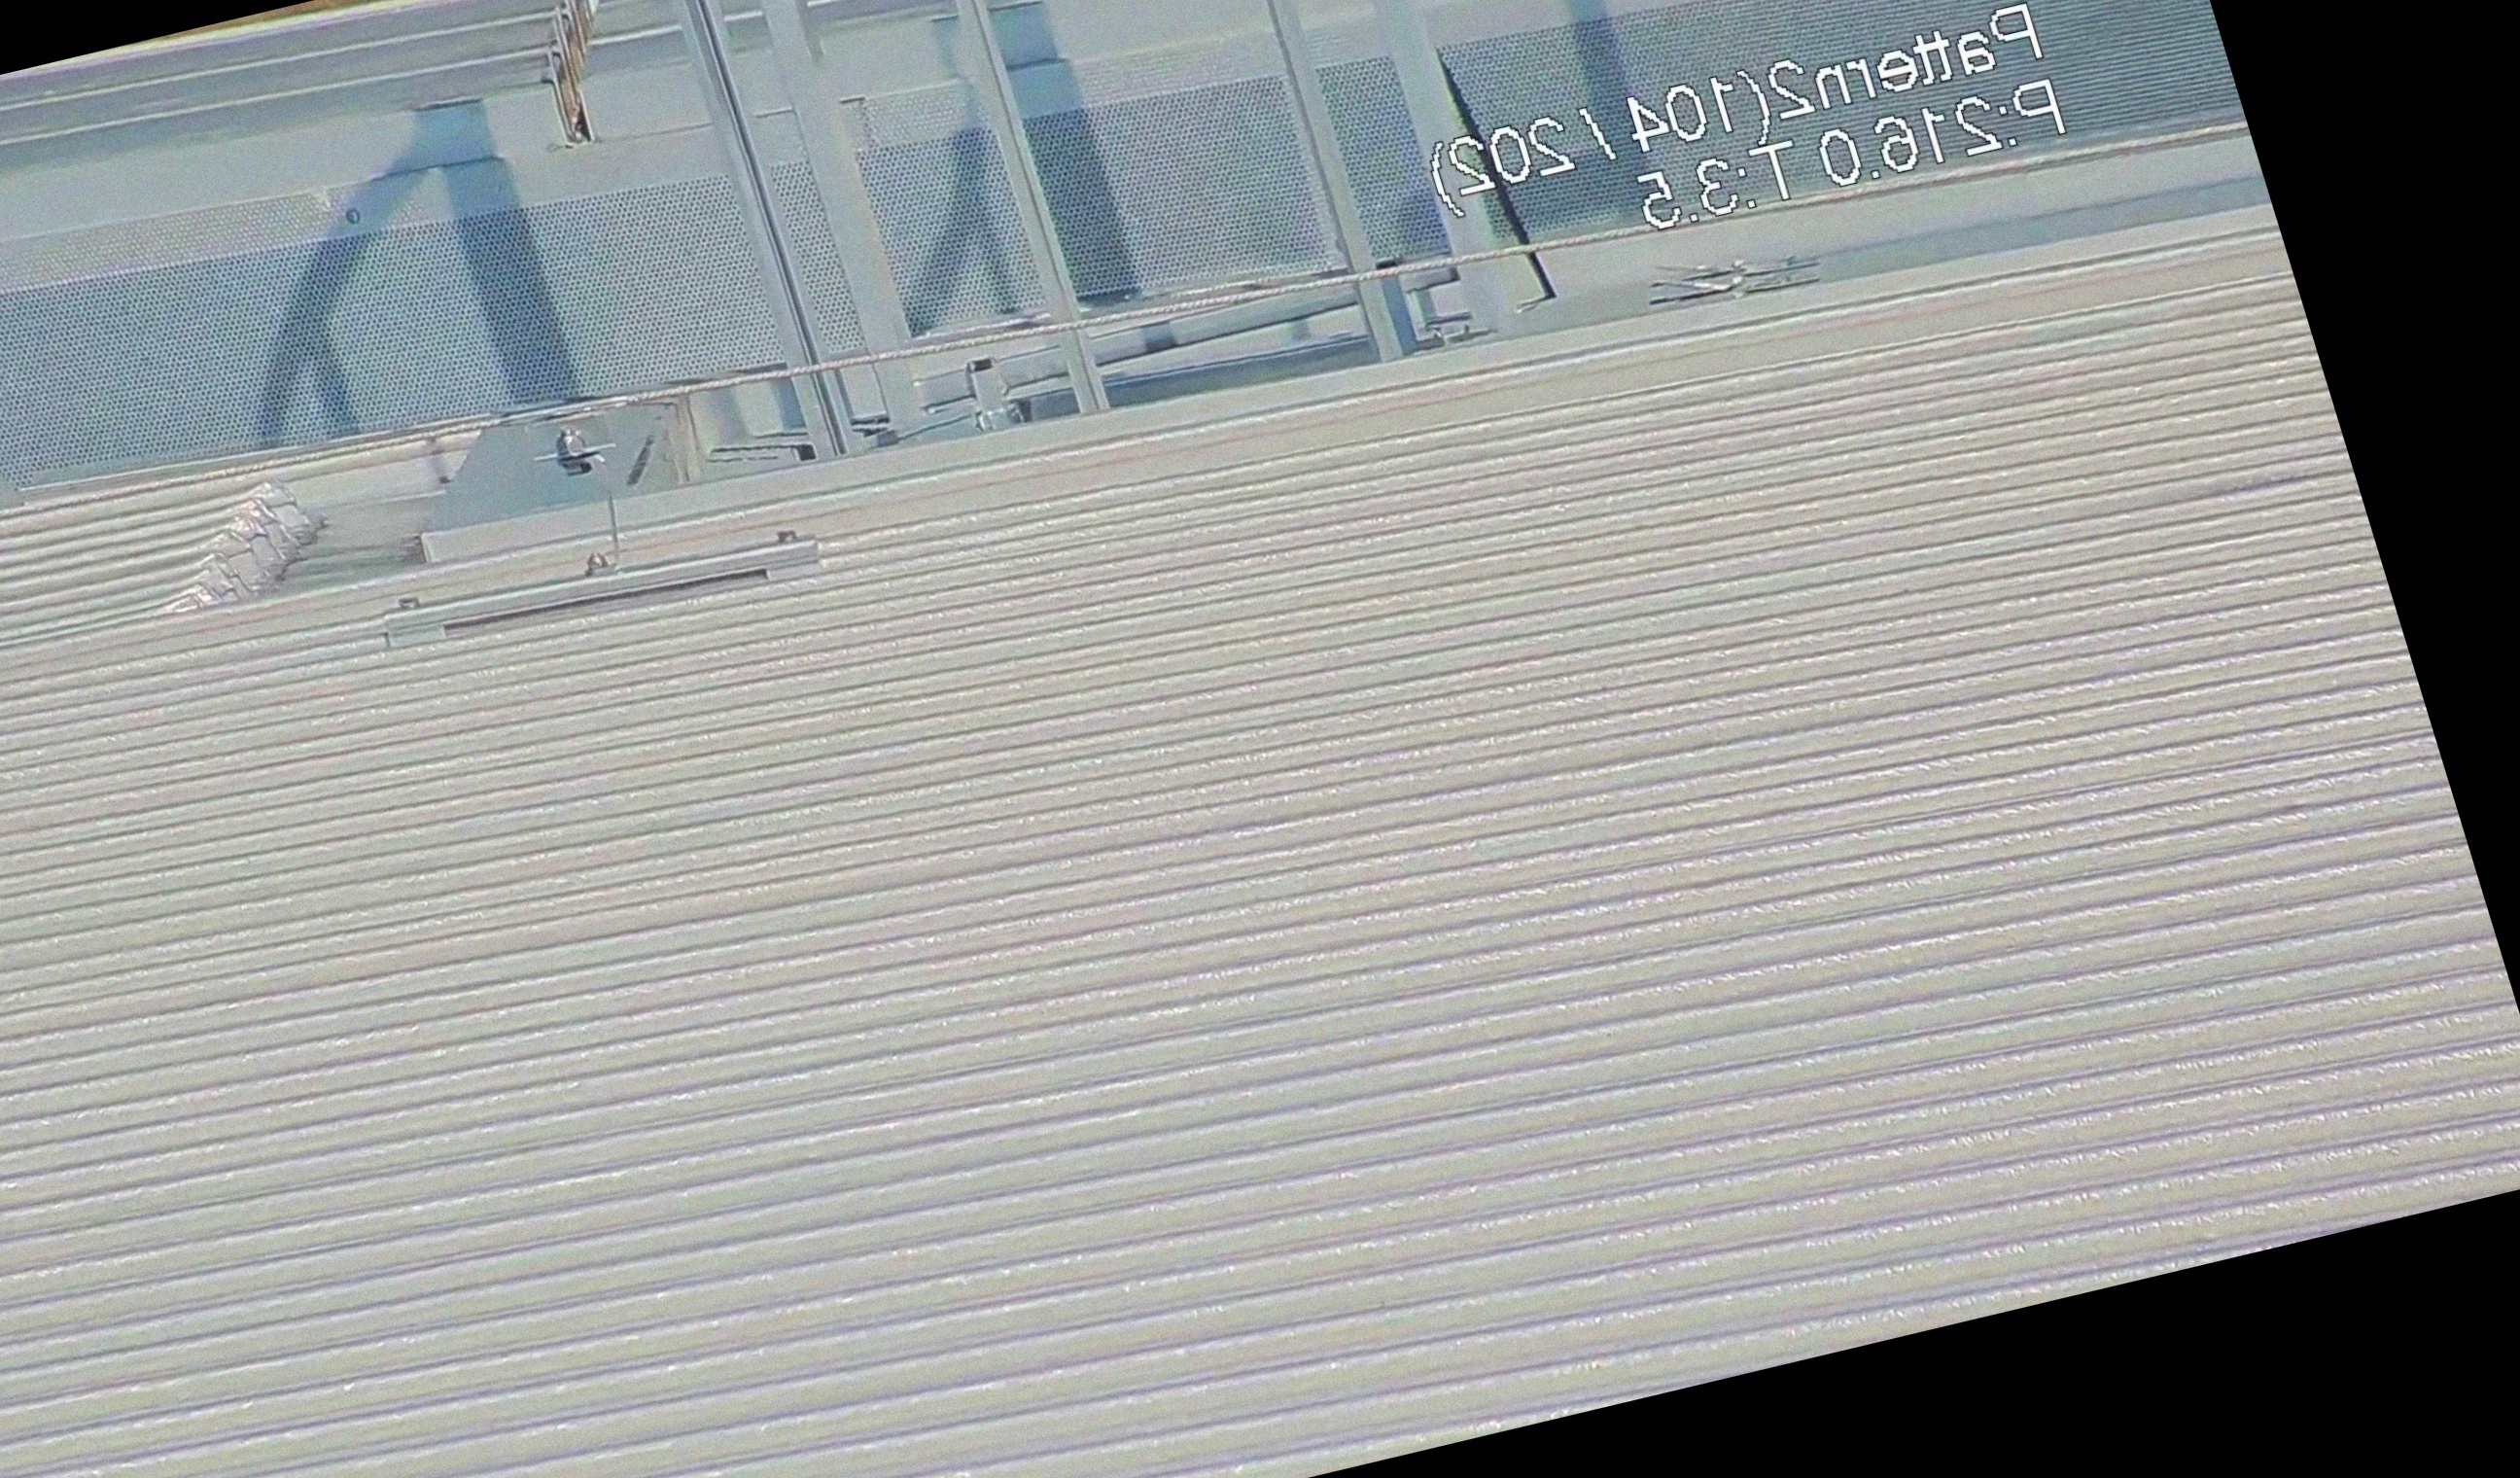Other: (116, 459, 355, 632)
